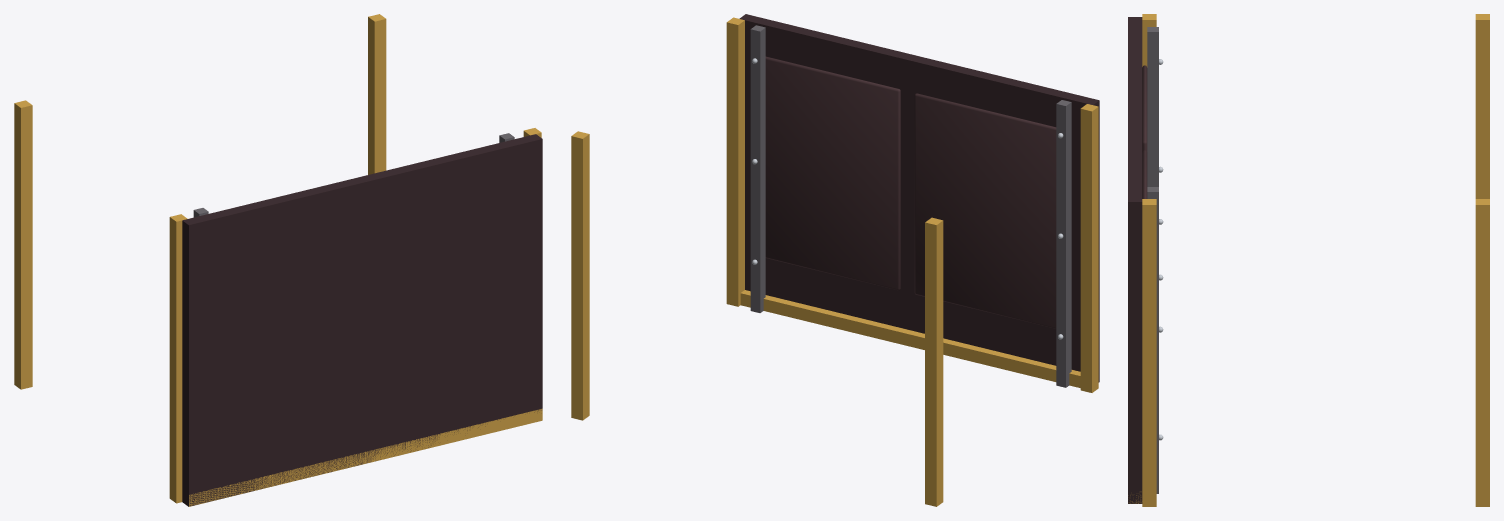
The model's file is ShaftSegment.fbx.
3 renders of one model, left to right at view 1: azimuth 30°, elevation 25°; view 2: azimuth 150°, elevation 25°; view 3: azimuth 270°, elevation 25°, orthographic. The views are drawn at different scales.
Visible parts, largest first — view 1: Segment; view 2: Segment; view 3: Segment.
Part boxes in pixels (<box>): Segment: <box>14,14,542,506</box>; Segment: <box>571,14,1099,506</box>; Segment: <box>1128,14,1489,506</box>.
Bounding box in the file's own units: 3.8 × 2.8 × 3.04.
